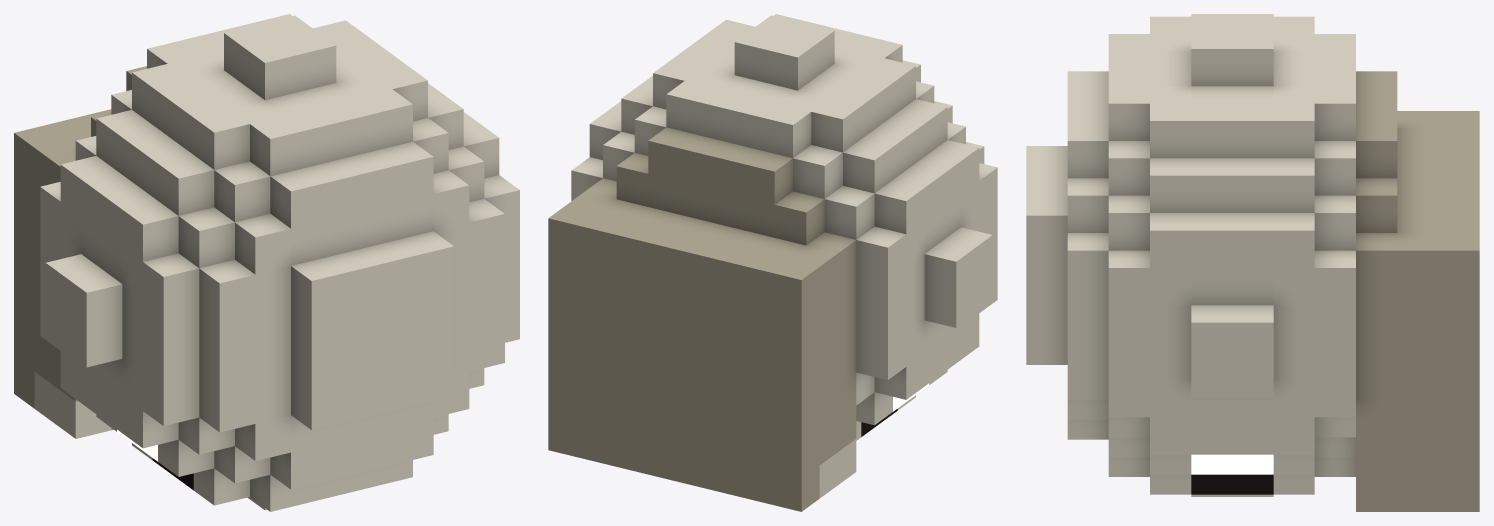
The model's file is chest_skull.glb.
The picture shows the model from 3 angles, left to right: view 1: azimuth 30°, elevation 25°; view 2: azimuth 150°, elevation 25°; view 3: azimuth 270°, elevation 25°; orthographic projection. The views are drawn at different scales.
Visible parts, largest first — view 1: chest_skull_body; view 2: chest_skull_body; view 3: chest_skull_body.
Part boxes in pixels (left/top/right/bottom): chest_skull_body: left=14, top=14, right=519, bottom=511; chest_skull_body: left=548, top=14, right=997, bottom=511; chest_skull_body: left=1026, top=14, right=1479, bottom=511.
Bounding box in the file's own units: 0.75 × 0.75 × 0.6875.
1 material, 1 textured.
